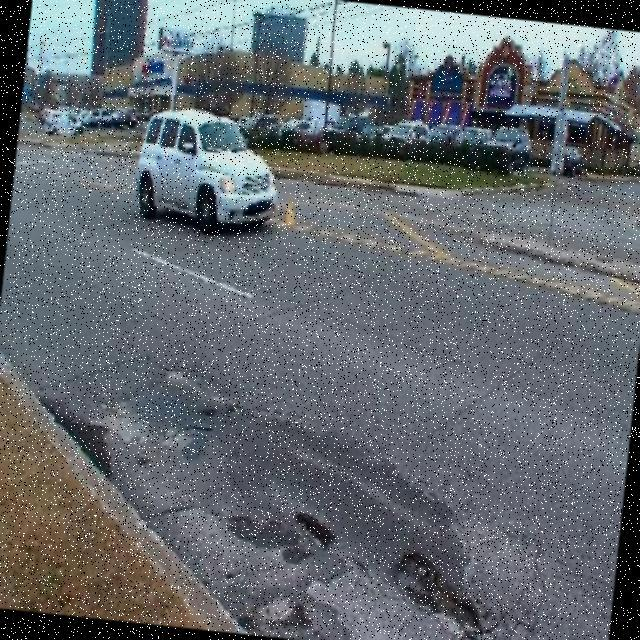Pothole: (395, 549, 481, 640), (297, 507, 333, 546)
